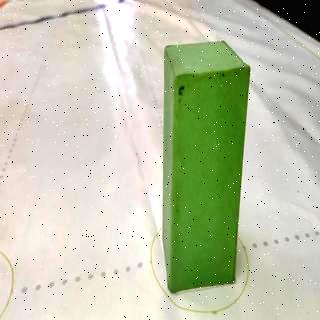greenbox: (162, 40, 252, 292)
